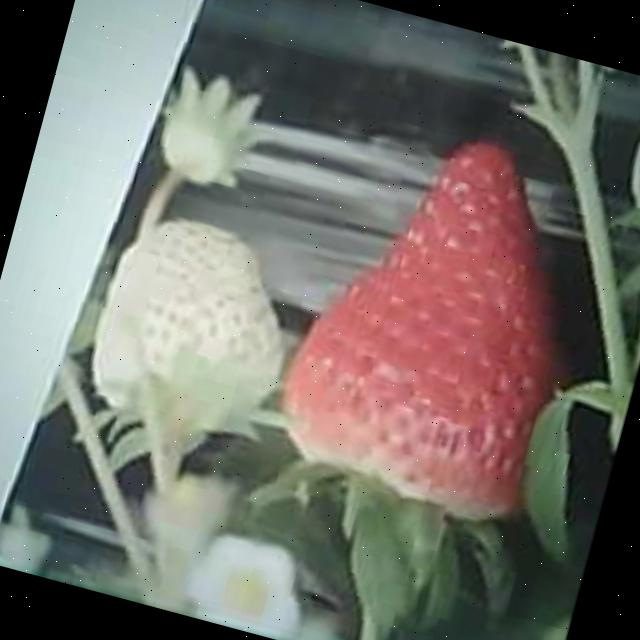strawberry: (272, 104, 628, 522)
